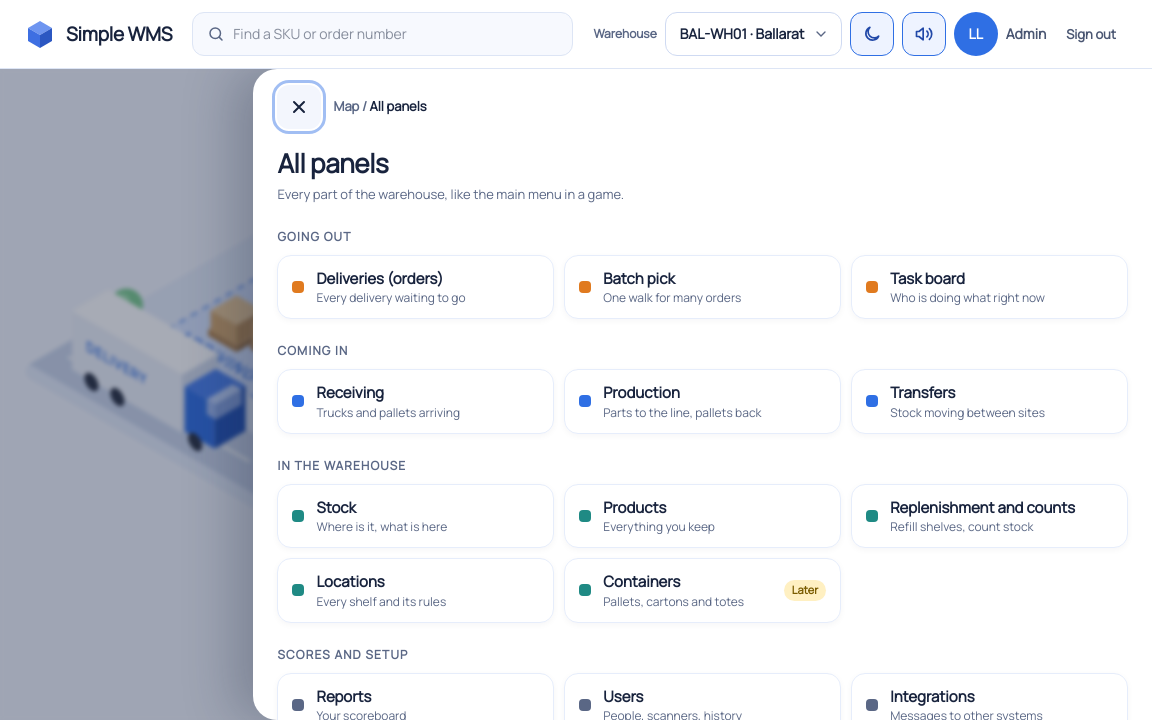
Test: Top bar search › opens a delivery when the reference is one
The image size is (1164, 720).
Type "SO-2047" into the search field named "Find a product or order" at [396, 34], box [233,24,558,44]
Then press Enter
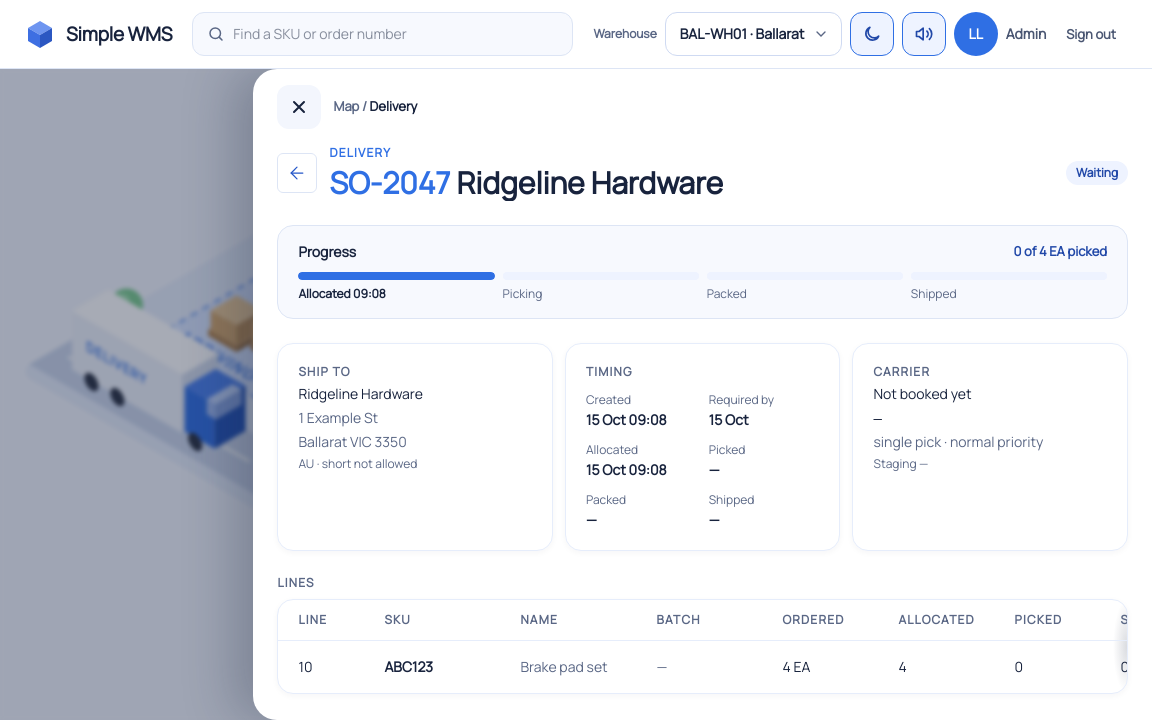
Check: the heading "SO-2047 Ridgeline Hardware" is shown, box [330,165,723,201]
